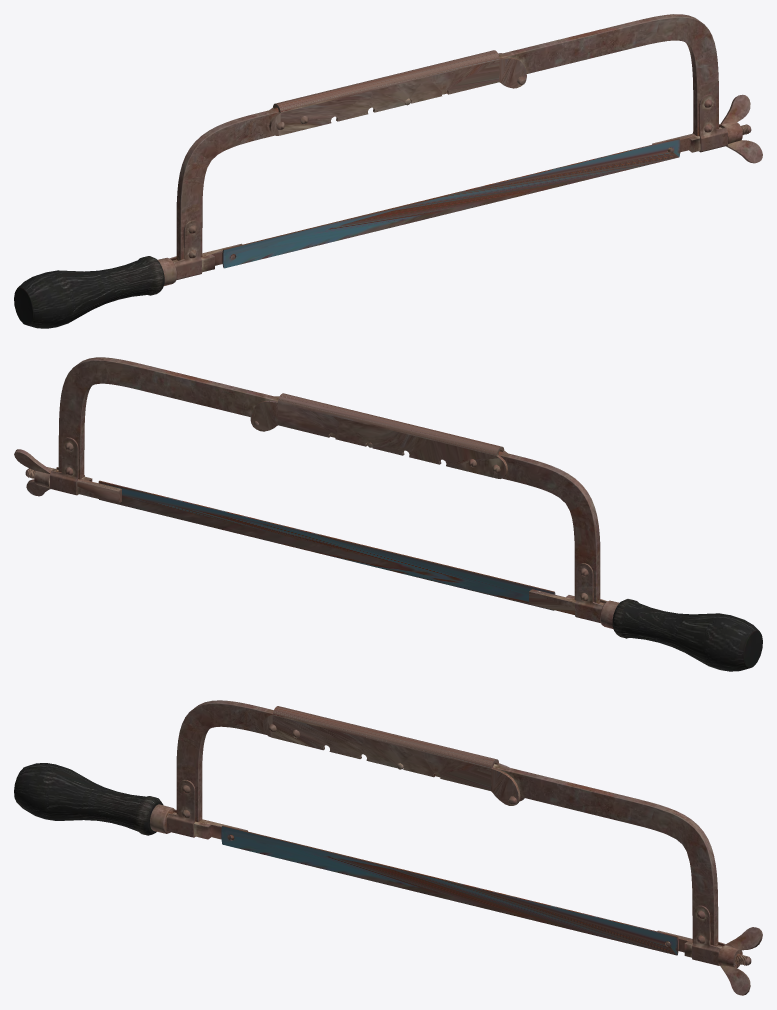
Rendered from rusted-hacksaw.glb.
3 renders of one model, top to bottom at view 1: azimuth 30°, elevation 25°; view 2: azimuth 150°, elevation 25°; view 3: azimuth 330°, elevation 25°, orthographic.
Parts seen in each view (by area): view 1: rusted_hacksaw; view 2: rusted_hacksaw; view 3: rusted_hacksaw.
Part boxes in pixels (x1=…): rusted_hacksaw: x1=14, y1=14, x2=762, y2=328; rusted_hacksaw: x1=14, y1=357, x2=762, y2=671; rusted_hacksaw: x1=14, y1=700, x2=762, y2=995.
Size of the model in its own units: 0.4963 by 0.1094 by 0.0328.
1 material, 1 textured.
